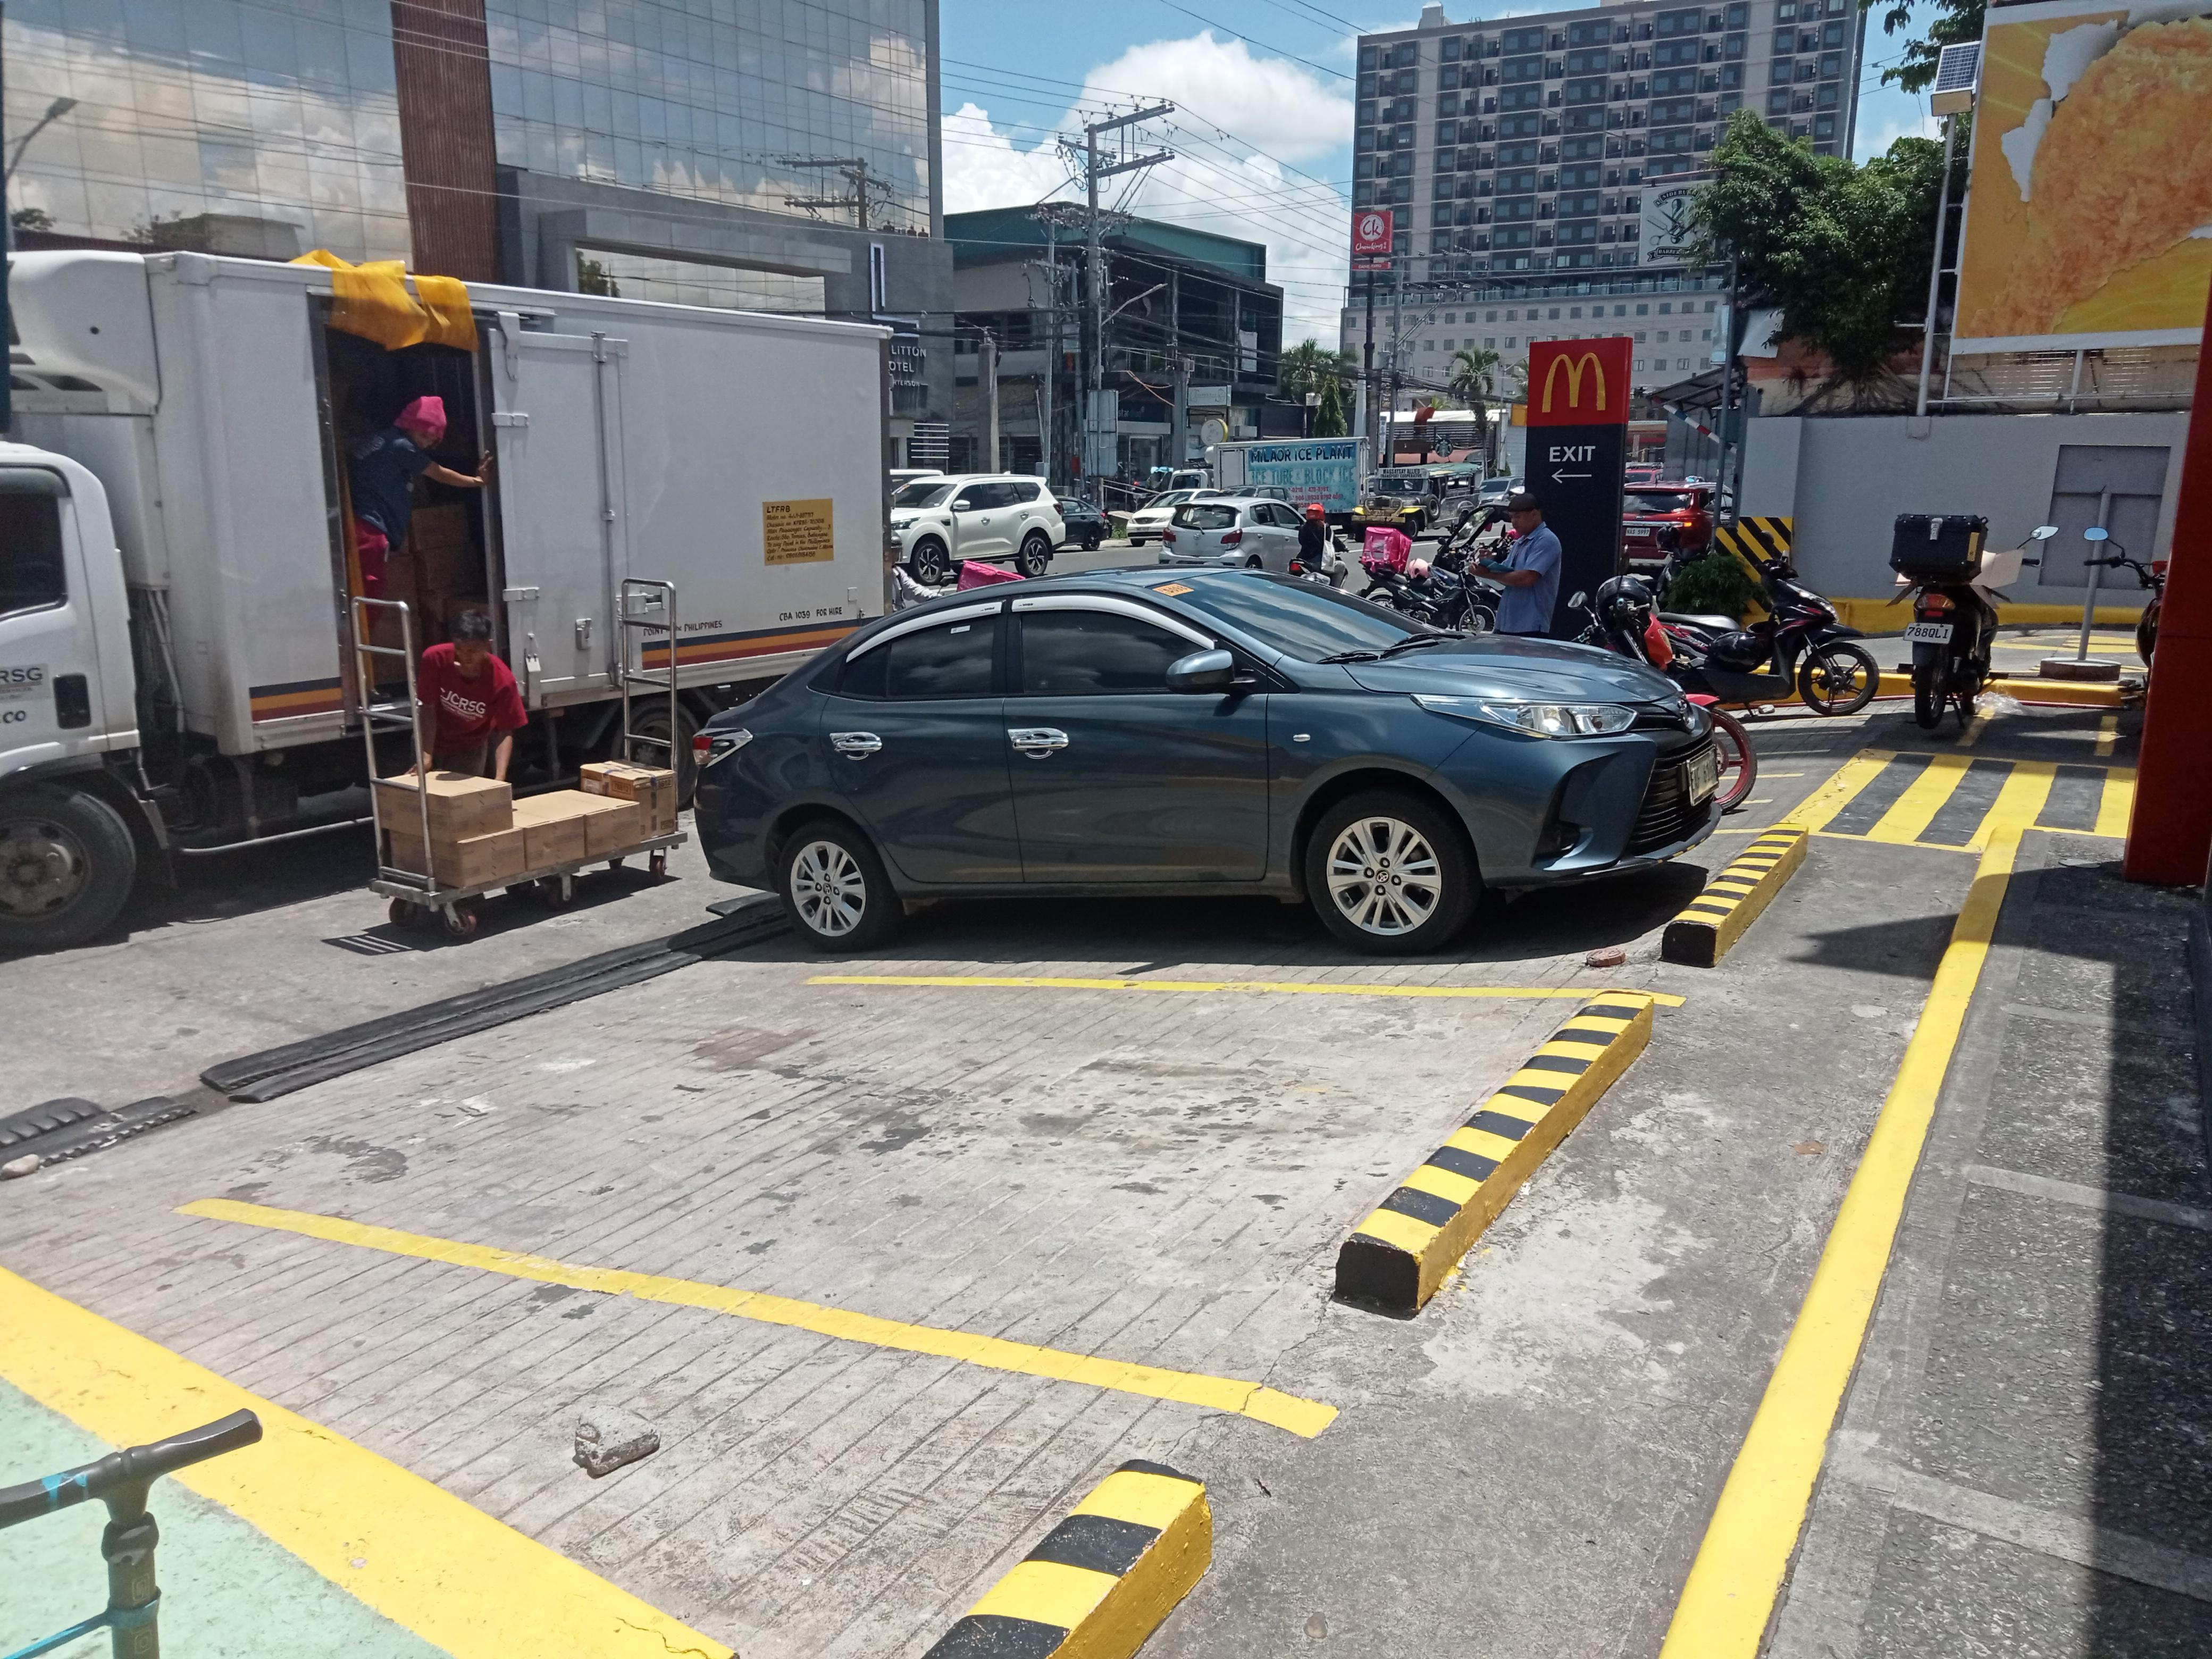vacant: (153, 964, 1709, 1448)
